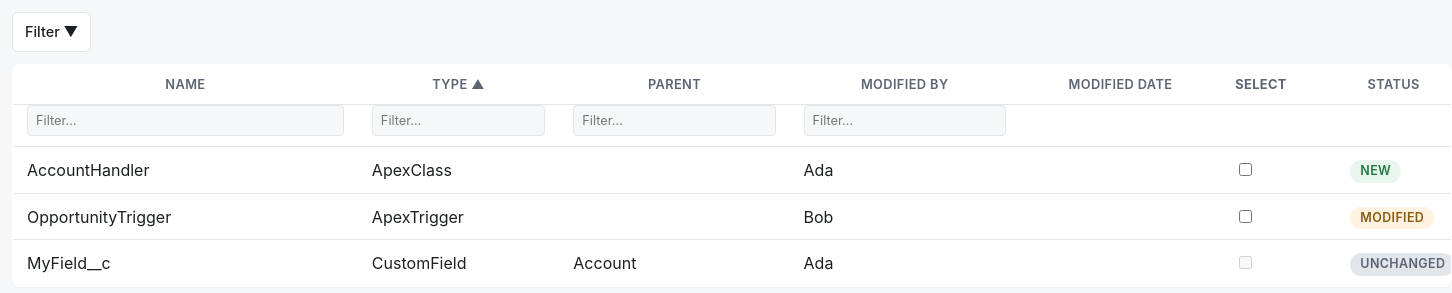
it: DiffTable › per-column search › filters by Name, case-insensitively, as you type
This screenshot has width=1452, height=293.
Type "account" into the field named "filter by name" at (185, 120), box [27,105,344,136]
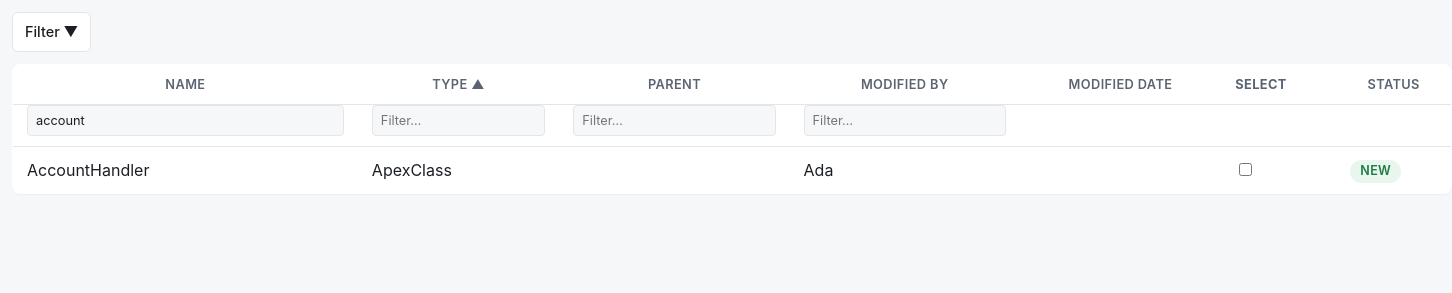
Expected: the text "AccountHandler" is shown, [12,146,358,193]
Result: the text "MyField__c" is gone
Result: the text "OpportunityTrigger" is gone
